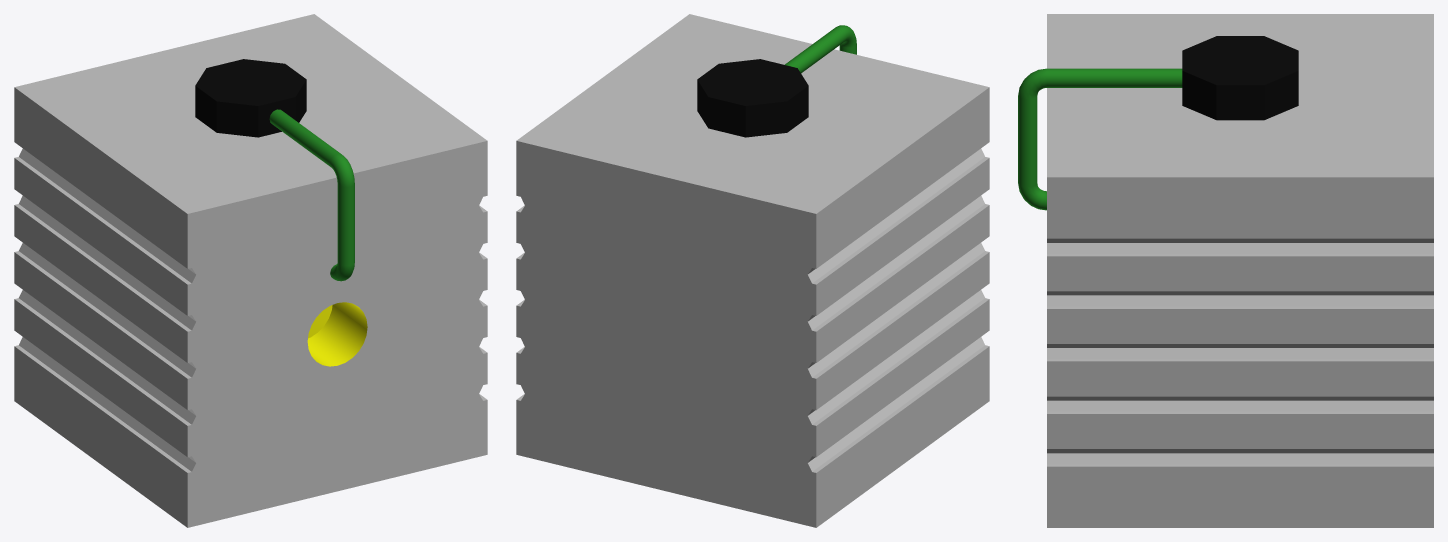
File: Antenna base.glb
3 views of the same model, side by side, from view 1: azimuth 30°, elevation 25°; view 2: azimuth 150°, elevation 25°; view 3: azimuth 270°, elevation 25° (orthographic). The views are drawn at different scales.
Visible parts, largest first — view 1: Solide1; view 2: Solide1; view 3: Solide1.
Part boxes in pixels (left/top/right/bottom): Solide1: left=14, top=14, right=487, bottom=527; Solide1: left=516, top=14, right=989, bottom=527; Solide1: left=1018, top=14, right=1433, bottom=527.
Size of the model in its own units: 1 by 1.1 by 1.08.
